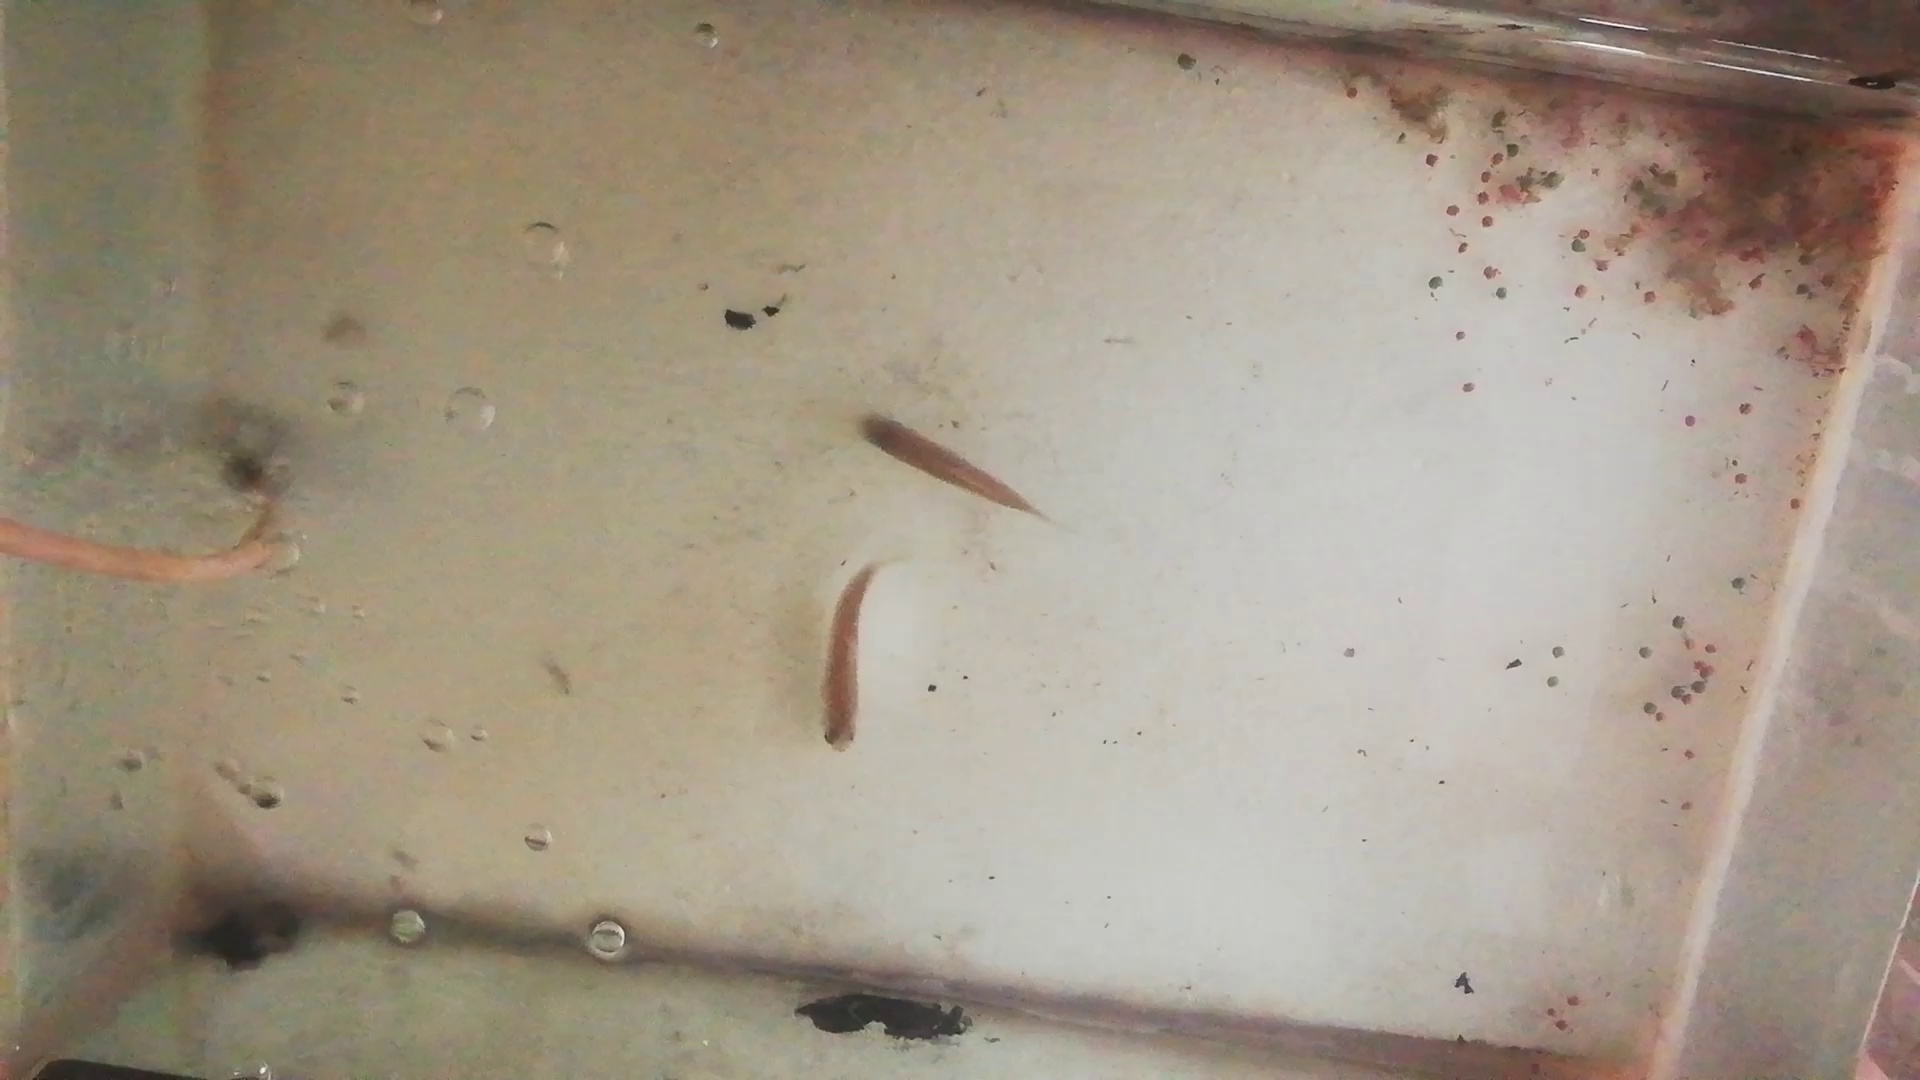fish: (857, 417, 1034, 514), (818, 563, 873, 754)
